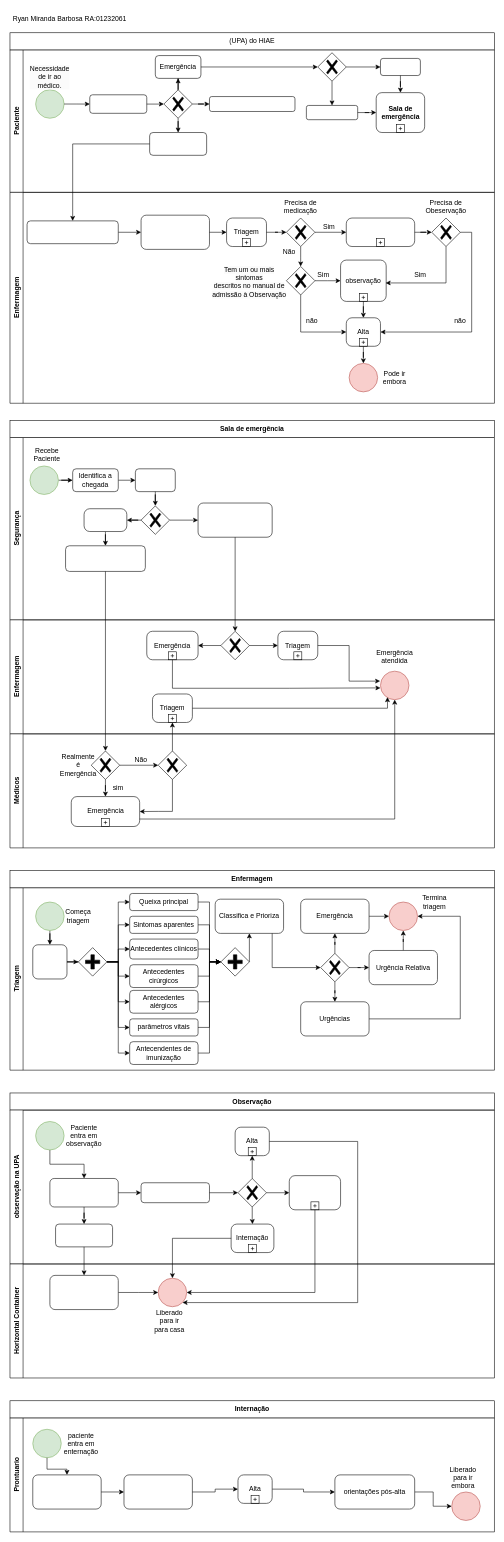
Image size: 504x1542. Some labels were removed from this diagram. Each missing label, with the centre of its shape:
Acompanhamento da unidade: point (66, 1491)
Alta para a residência: point (315, 1192)
Apertar o botão: point (155, 480)
Atendimento enfermeiro(a) qualificado: point (72, 232)
Avaliação: point (49, 961)
Chamar SAMU: point (332, 112)
Curativos ou Ortopédicos: point (252, 103)
Dois Toques: point (105, 520)
Dor/Sintomas: point (178, 143)
Enfermagem recebe o chamado: point (235, 519)
Fica 12 horas em observação: point (83, 1192)
incorporado ao prontuário Institucional: point (157, 1491)
Ir de carro: point (400, 67)
Justificar no pontuario: point (83, 1292)
Moitivo da ida: point (118, 103)
Médicos e Enfermagem recebem o chamado: point (105, 558)
Nortear a alta: point (84, 1235)
Registro da data e horário de chegada: point (175, 232)
Revalidação dos exames: point (175, 1192)
sala de medicação: point (380, 232)
